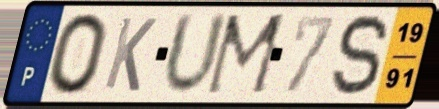7: (284, 13, 338, 96)
K: (101, 14, 160, 94)
M: (201, 11, 291, 99)
O: (45, 10, 111, 98)
S: (329, 11, 392, 100)
U: (160, 9, 231, 99)
